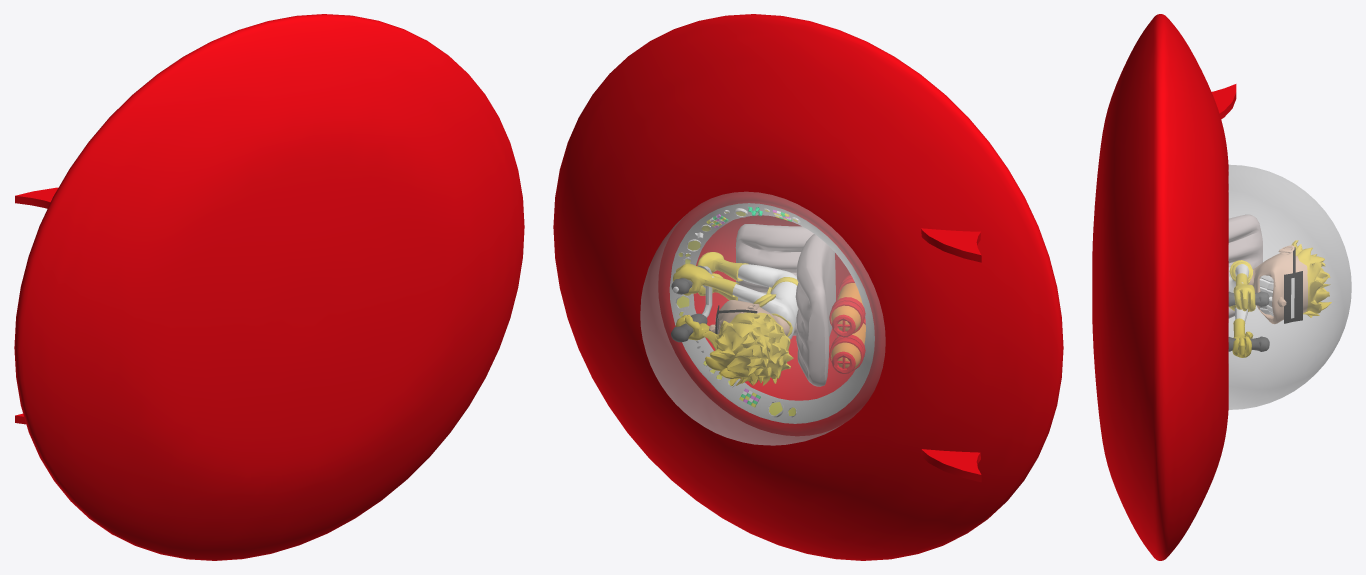
Rendered from Spiff.obj.
The picture shows the model from 3 angles, left to right: view 1: azimuth 30°, elevation 25°; view 2: azimuth 150°, elevation 25°; view 3: azimuth 270°, elevation 25°; orthographic projection. The views are drawn at different scales.
Visible parts, largest first — view 1: spiff_2_0_hull; view 2: spiff_2_0_hull, spiff_2_0_zdome, spiff_2_0_leather, spiff_2_0_metal, spiff_2_0_hair, spiff_2_0_gloves, spiff_2_0_suit, spiff_2_0_bottle, spiff_2_0_skin, spiff_2_0_handles, spiff_2_0_dial; view 3: spiff_2_0_hull, spiff_2_0_zdome, spiff_2_0_skin, spiff_2_0_leather, spiff_2_0_gloves, spiff_2_0_hair, spiff_2_0_mask, spiff_2_0_handles, spiff_2_0_suit, spiff_2_0_teeth.
Part boxes in pixels (x1,y1,x2,y2): spiff_2_0_hull: [14, 14, 524, 560]; spiff_2_0_hull: [553, 14, 1063, 560]; spiff_2_0_zdome: [640, 192, 885, 445]; spiff_2_0_leather: [735, 224, 835, 386]; spiff_2_0_metal: [669, 203, 874, 423]; spiff_2_0_hair: [703, 312, 793, 385]; spiff_2_0_gloves: [673, 252, 798, 340]; spiff_2_0_suit: [712, 264, 797, 339]; spiff_2_0_bottle: [831, 283, 865, 367]; spiff_2_0_skin: [709, 300, 789, 335]; spiff_2_0_handles: [671, 265, 707, 342]; spiff_2_0_dial: [676, 209, 797, 415]; spiff_2_0_hull: [1092, 14, 1236, 560]; spiff_2_0_zdome: [1228, 164, 1351, 409]; spiff_2_0_skin: [1248, 245, 1307, 323]; spiff_2_0_leather: [1228, 214, 1262, 318]; spiff_2_0_gloves: [1229, 260, 1255, 357]; spiff_2_0_hair: [1292, 240, 1331, 317]; spiff_2_0_mask: [1284, 247, 1302, 323]; spiff_2_0_handles: [1228, 291, 1269, 351]; spiff_2_0_suit: [1228, 264, 1249, 321]; spiff_2_0_teeth: [1259, 275, 1273, 316].
Bounding box in the file's own units: 4.32 × 4.32 × 2.05.
